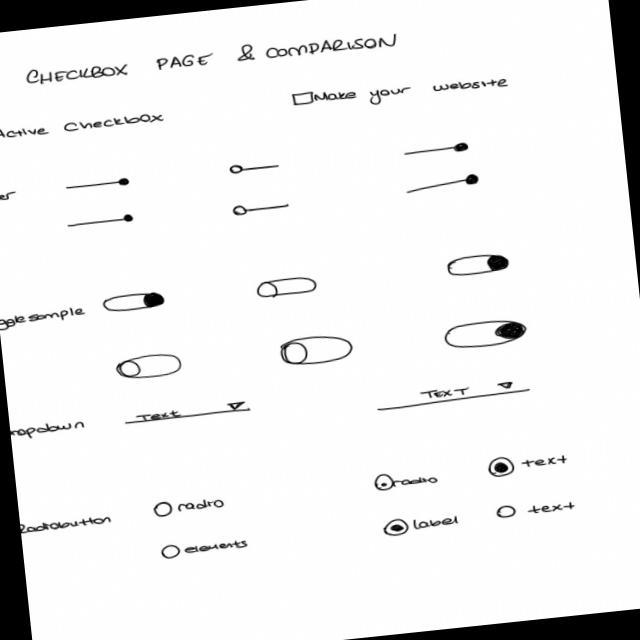checkbox: (288, 68, 512, 115), (0, 106, 164, 142)
label: (22, 29, 400, 88), (0, 303, 87, 331), (9, 415, 88, 441), (20, 512, 111, 534), (0, 187, 19, 204)
radio: (156, 535, 251, 562), (484, 449, 570, 478), (378, 509, 461, 538), (149, 492, 227, 518), (492, 496, 576, 520), (370, 468, 440, 493)
select: (374, 378, 533, 412), (120, 398, 254, 426)
slider: (401, 172, 482, 196), (63, 211, 136, 231), (64, 174, 132, 193), (401, 140, 472, 158), (230, 198, 292, 217), (227, 158, 280, 176)
toggle: (440, 315, 530, 353), (275, 330, 357, 369), (112, 349, 184, 382), (442, 250, 512, 280), (100, 288, 167, 315), (254, 274, 318, 299)
